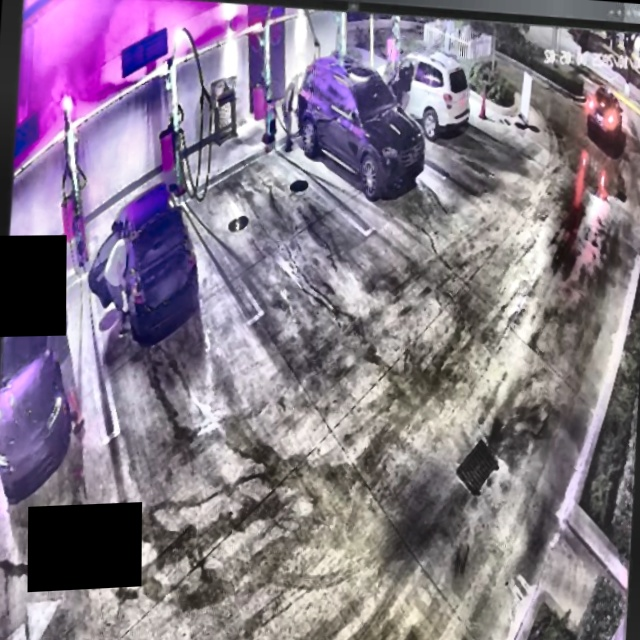Car: (290, 55, 430, 203), (86, 180, 204, 349)
